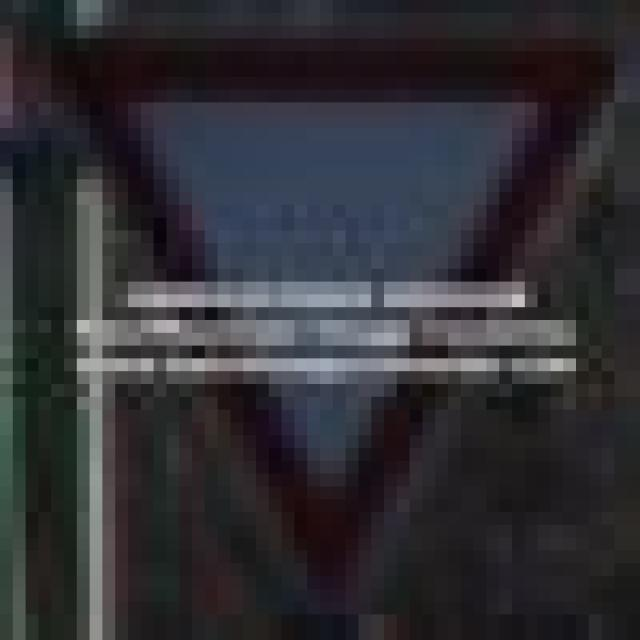gap_in_median: (26, 26, 627, 563)
